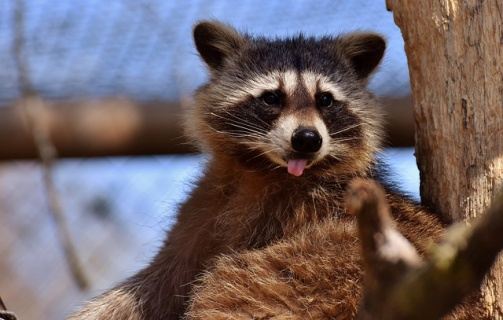Raccoon: (57, 14, 496, 320)
